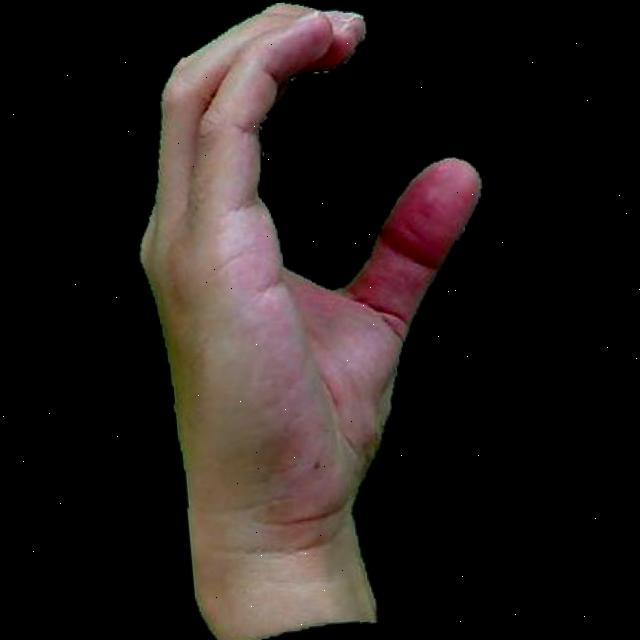c: (97, 0, 537, 640)
